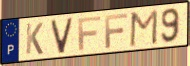9: (160, 7, 181, 45)
F: (103, 12, 129, 50), (77, 15, 102, 52)
K: (24, 21, 44, 56)
M: (128, 8, 159, 49)
V: (49, 16, 75, 55)
